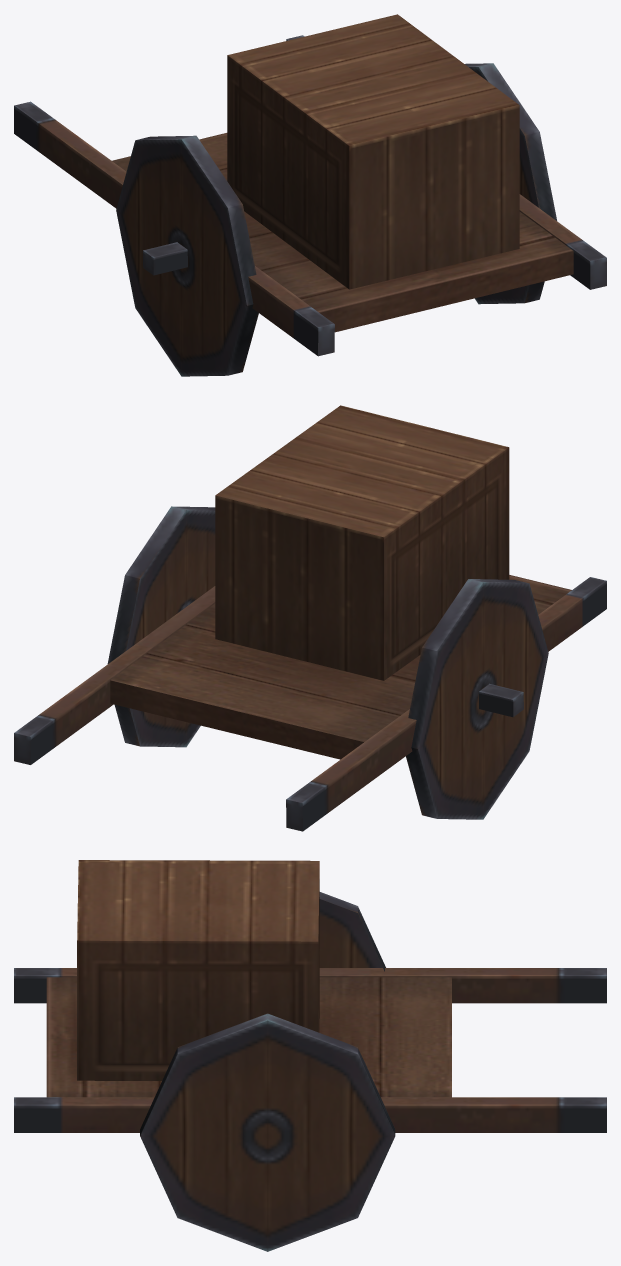
The model's file is GZ_Xsc_xiaoche_02_D.FBX.
The picture shows the model from 3 angles, top to bottom: view 1: azimuth 30°, elevation 25°; view 2: azimuth 150°, elevation 25°; view 3: azimuth 270°, elevation 25°; orthographic projection. The views are drawn at different scales.
Parts seen in each view (by area): view 1: GZ_Xsc_xiaoche_02_D; view 2: GZ_Xsc_xiaoche_02_D; view 3: GZ_Xsc_xiaoche_02_D.
Boxes of the visible parts, box(x1,y1,x2,y2) form: GZ_Xsc_xiaoche_02_D: box(14, 14, 606, 376); GZ_Xsc_xiaoche_02_D: box(14, 405, 606, 831); GZ_Xsc_xiaoche_02_D: box(14, 860, 606, 1251).
Bounding box in the file's own units: 4.18 × 3.28 × 6.36.
